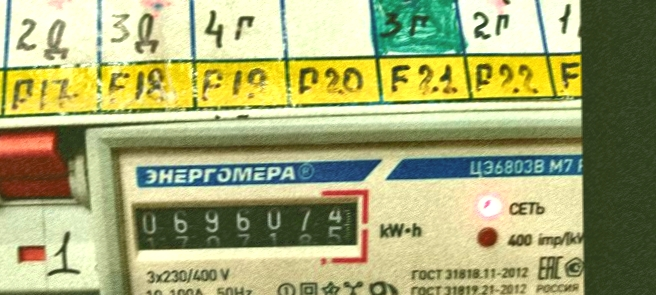0: (139, 209, 157, 234), (265, 204, 281, 230)
4: (327, 202, 341, 223)
5: (327, 224, 341, 243)
6: (170, 207, 188, 233), (234, 204, 250, 232)
7: (296, 205, 312, 231)
9: (202, 207, 219, 233)
screen: (124, 186, 371, 266)
